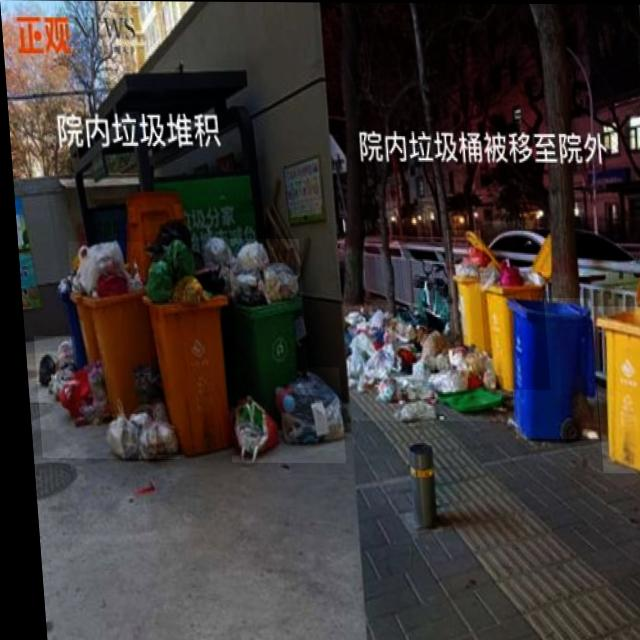garbage: (336, 302, 497, 421), (29, 336, 173, 459), (220, 366, 339, 463)
garbage_bin: (501, 297, 593, 438), (587, 305, 640, 473)
overflow: (137, 221, 232, 455), (224, 238, 306, 425), (64, 241, 150, 414), (474, 257, 544, 389), (443, 230, 485, 355)
